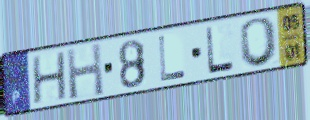8: (117, 38, 148, 91)
H: (64, 40, 107, 102), (30, 49, 69, 107)
L: (203, 24, 237, 76), (156, 34, 188, 84)
O: (239, 15, 281, 69)
